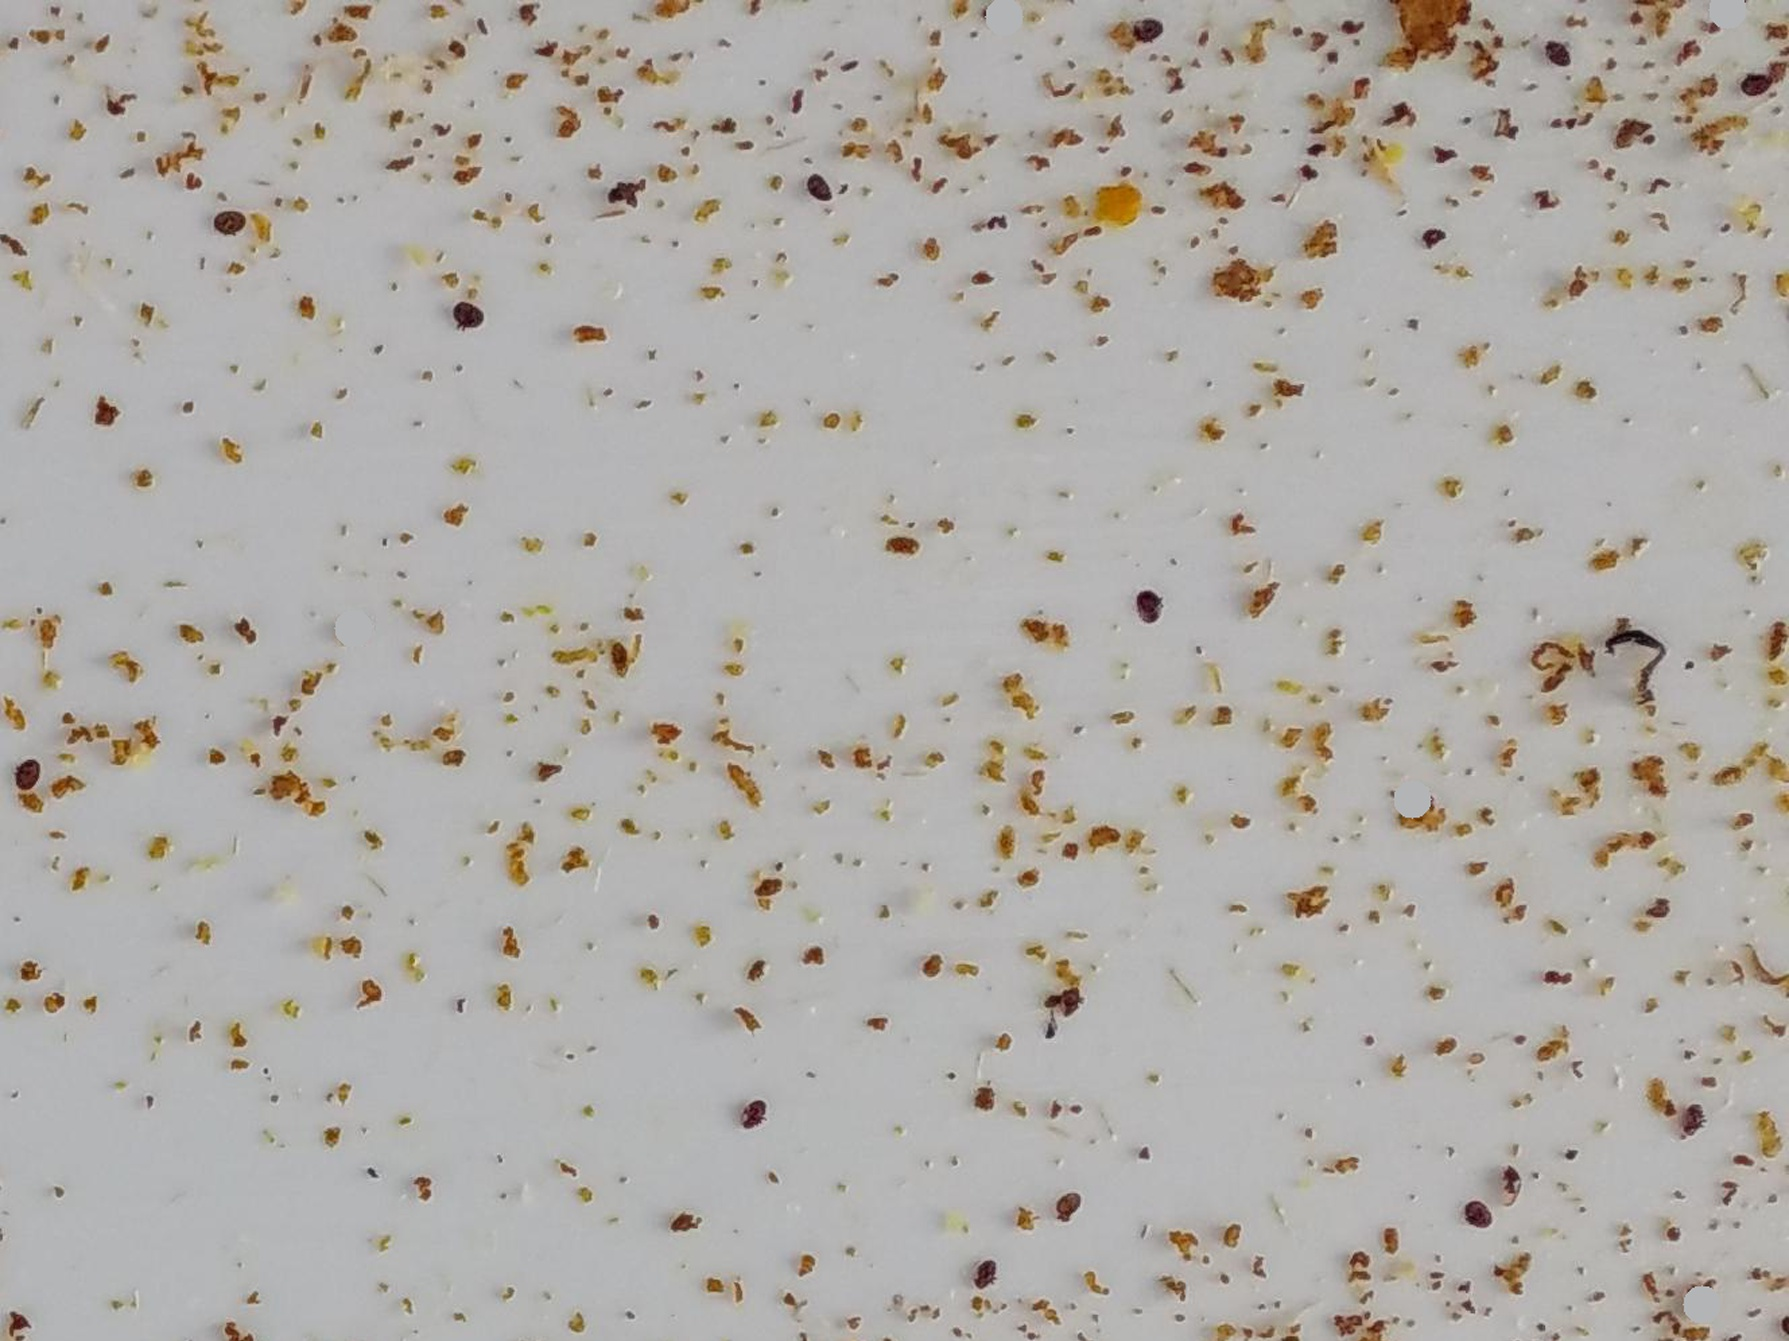Varroa: (1495, 1161, 1537, 1203), (1464, 1197, 1490, 1233), (1541, 39, 1571, 70), (804, 169, 834, 199), (731, 1096, 759, 1124), (447, 300, 473, 328), (1142, 13, 1165, 44), (1134, 587, 1159, 614), (982, 1259, 1002, 1289), (13, 762, 37, 785), (1688, 1102, 1707, 1127), (1064, 1193, 1082, 1220), (1752, 76, 1771, 101), (224, 206, 244, 227)
